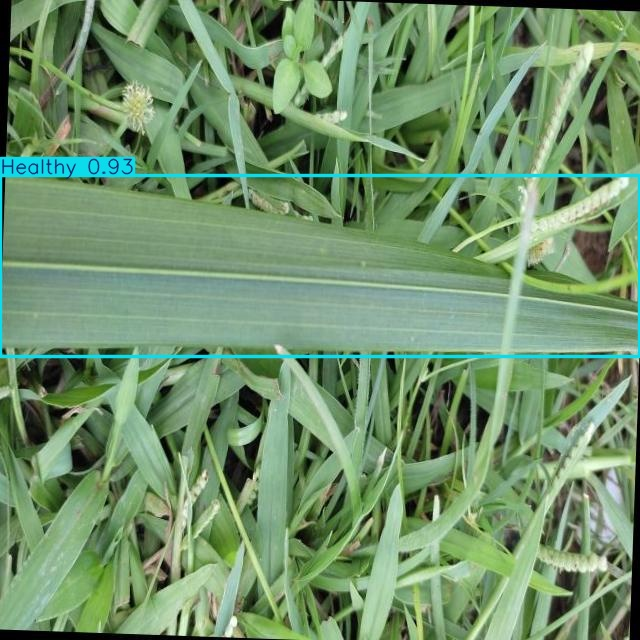Healthy: (1, 176, 640, 356)
